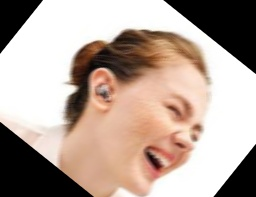earphone: (75, 60, 128, 114)
